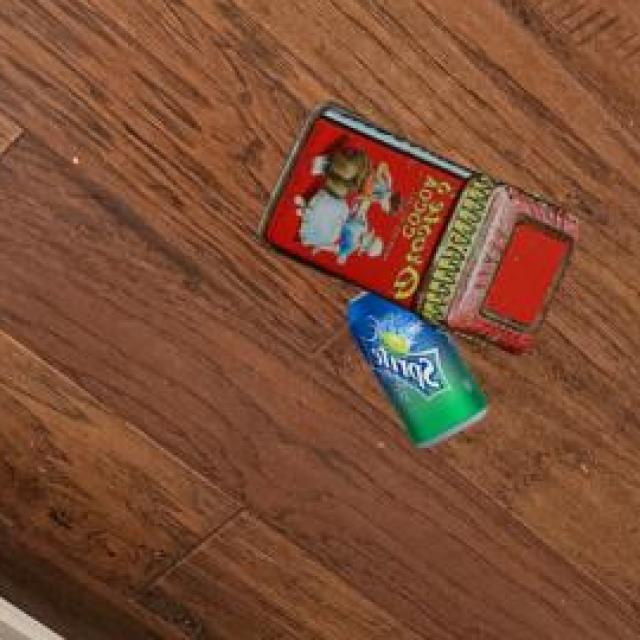logam: (255, 105, 575, 357), (345, 295, 482, 452)
